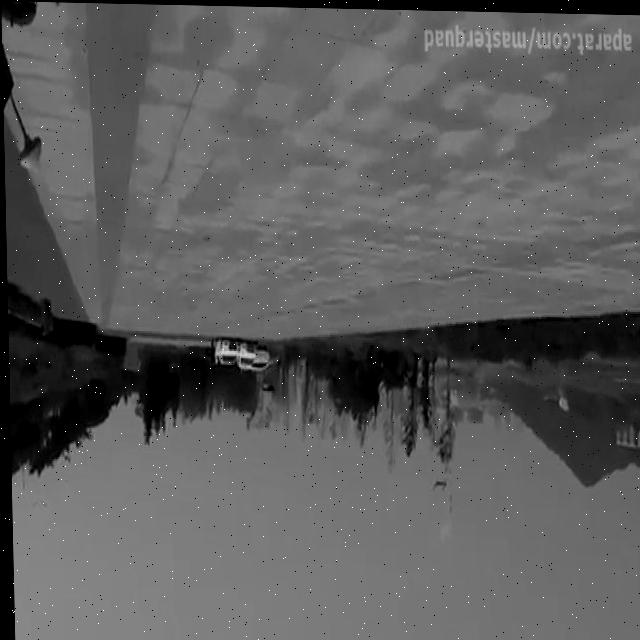drone: (424, 480, 445, 497)
